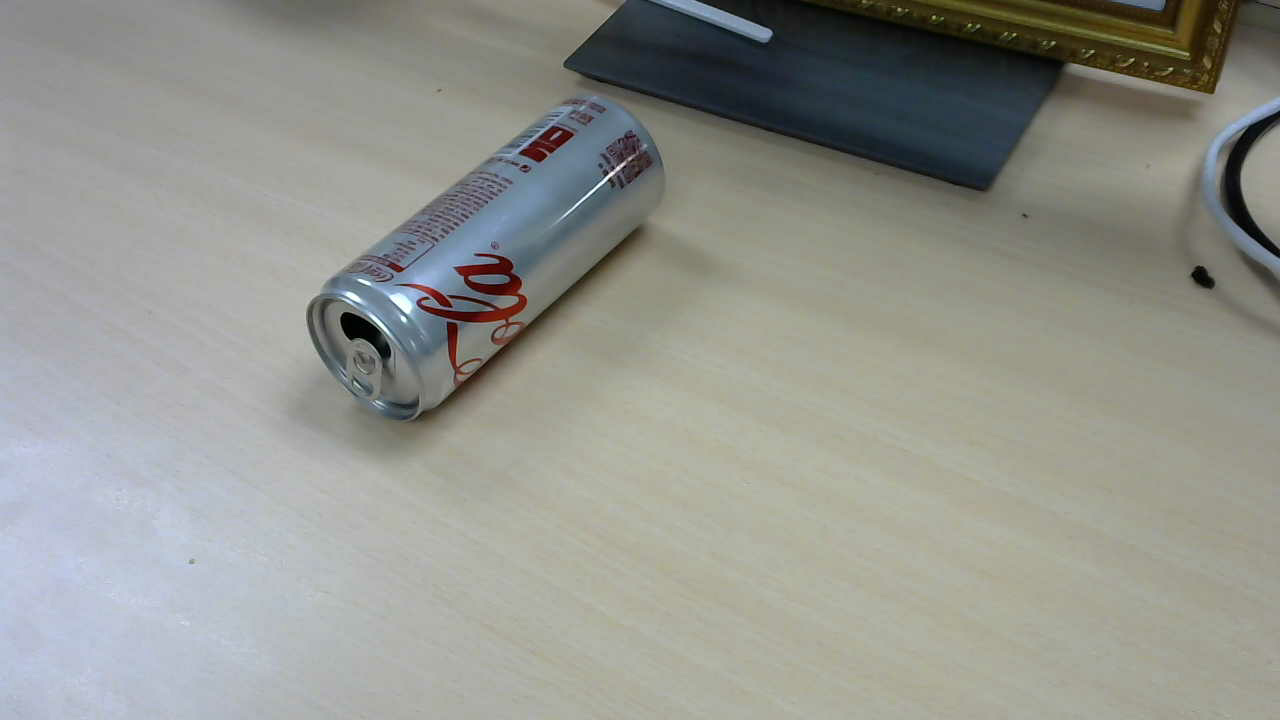Coca_Cola: (308, 94, 672, 430)
